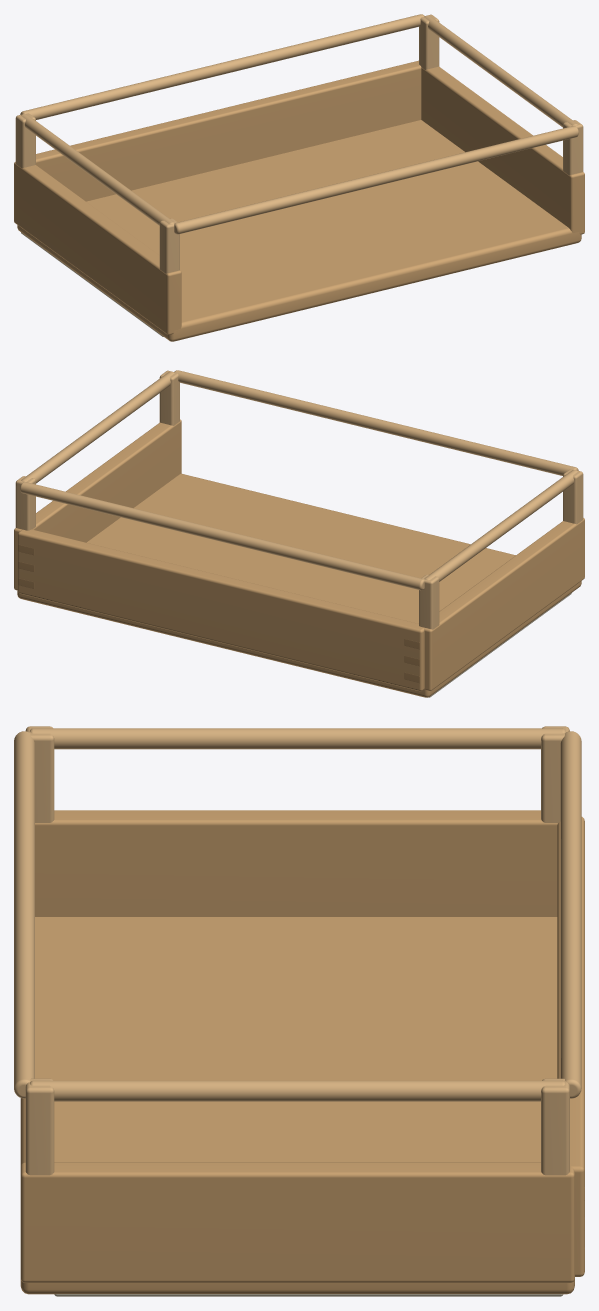
File: drawer-pantry.glb
3 renders of one model, top to bottom at view 1: azimuth 30°, elevation 25°; view 2: azimuth 150°, elevation 25°; view 3: azimuth 270°, elevation 25°, orthographic. The views are drawn at different scales.
Visible parts, largest first — view 1: solid oak tray floor, square corner post; view 2: solid oak tray floor, square corner post, oak finger joint; view 3: solid oak tray floor, square corner post, concealed runner.
Part boxes in pixels (x1,y1,x2,y2): solid oak tray floor: (14, 60, 584, 341); square corner post: (15, 14, 583, 273); solid oak tray floor: (14, 419, 584, 697); square corner post: (15, 370, 583, 629); oak finger joint: (18, 545, 419, 682); solid oak tray floor: (20, 810, 584, 1294); square corner post: (14, 726, 581, 1175); concealed runner: (54, 1294, 563, 1296).
Bounding box in the file's own units: 1.56 × 0.4245 × 1.03.
